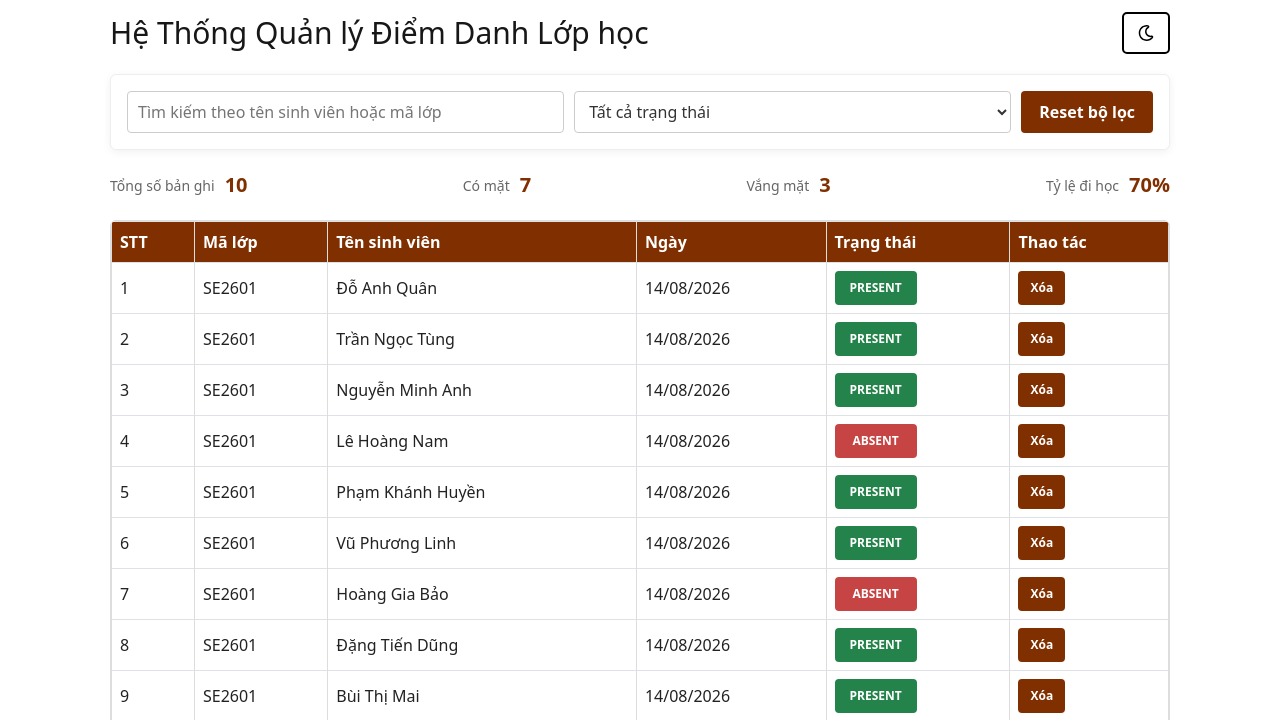
it: deletes an attendance and synchronizes it to localStorage
This screenshot has width=1280, height=720.
Click the button with aria-label "Xóa Đỗ Anh Quân" at (1042, 288), box [1018,271,1065,305]
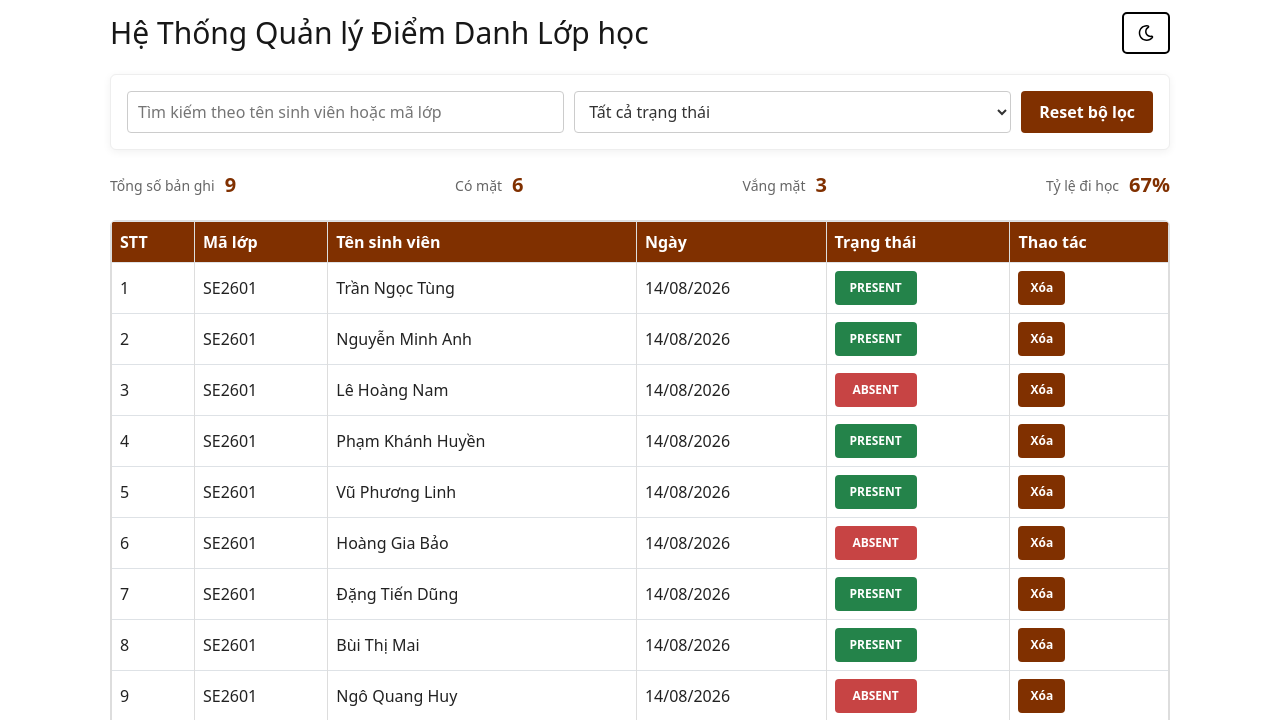
Now the text "Đỗ Anh Quân" is gone
